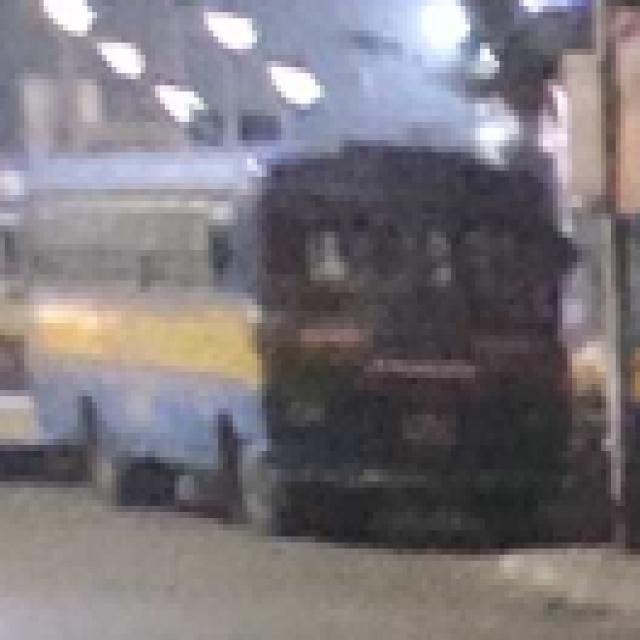bus: (14, 140, 580, 556)
